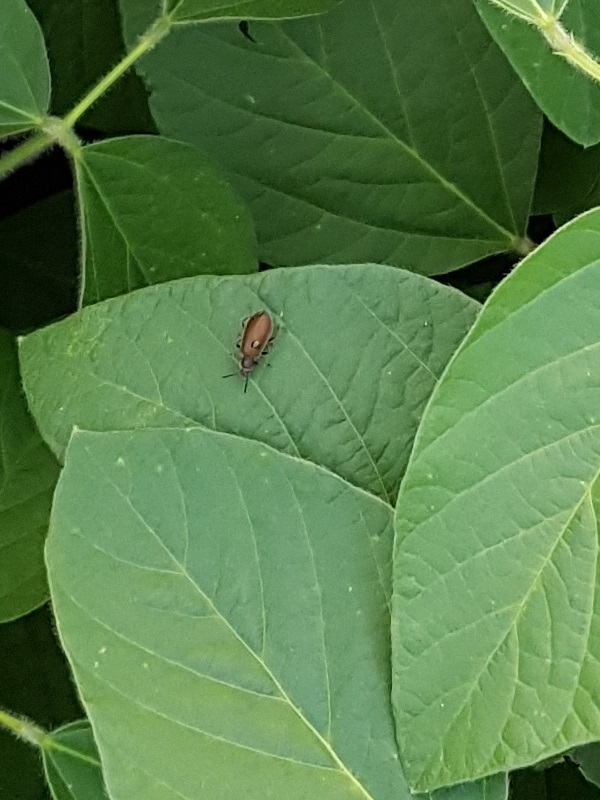Lagria_villosa: (216, 301, 293, 398)
